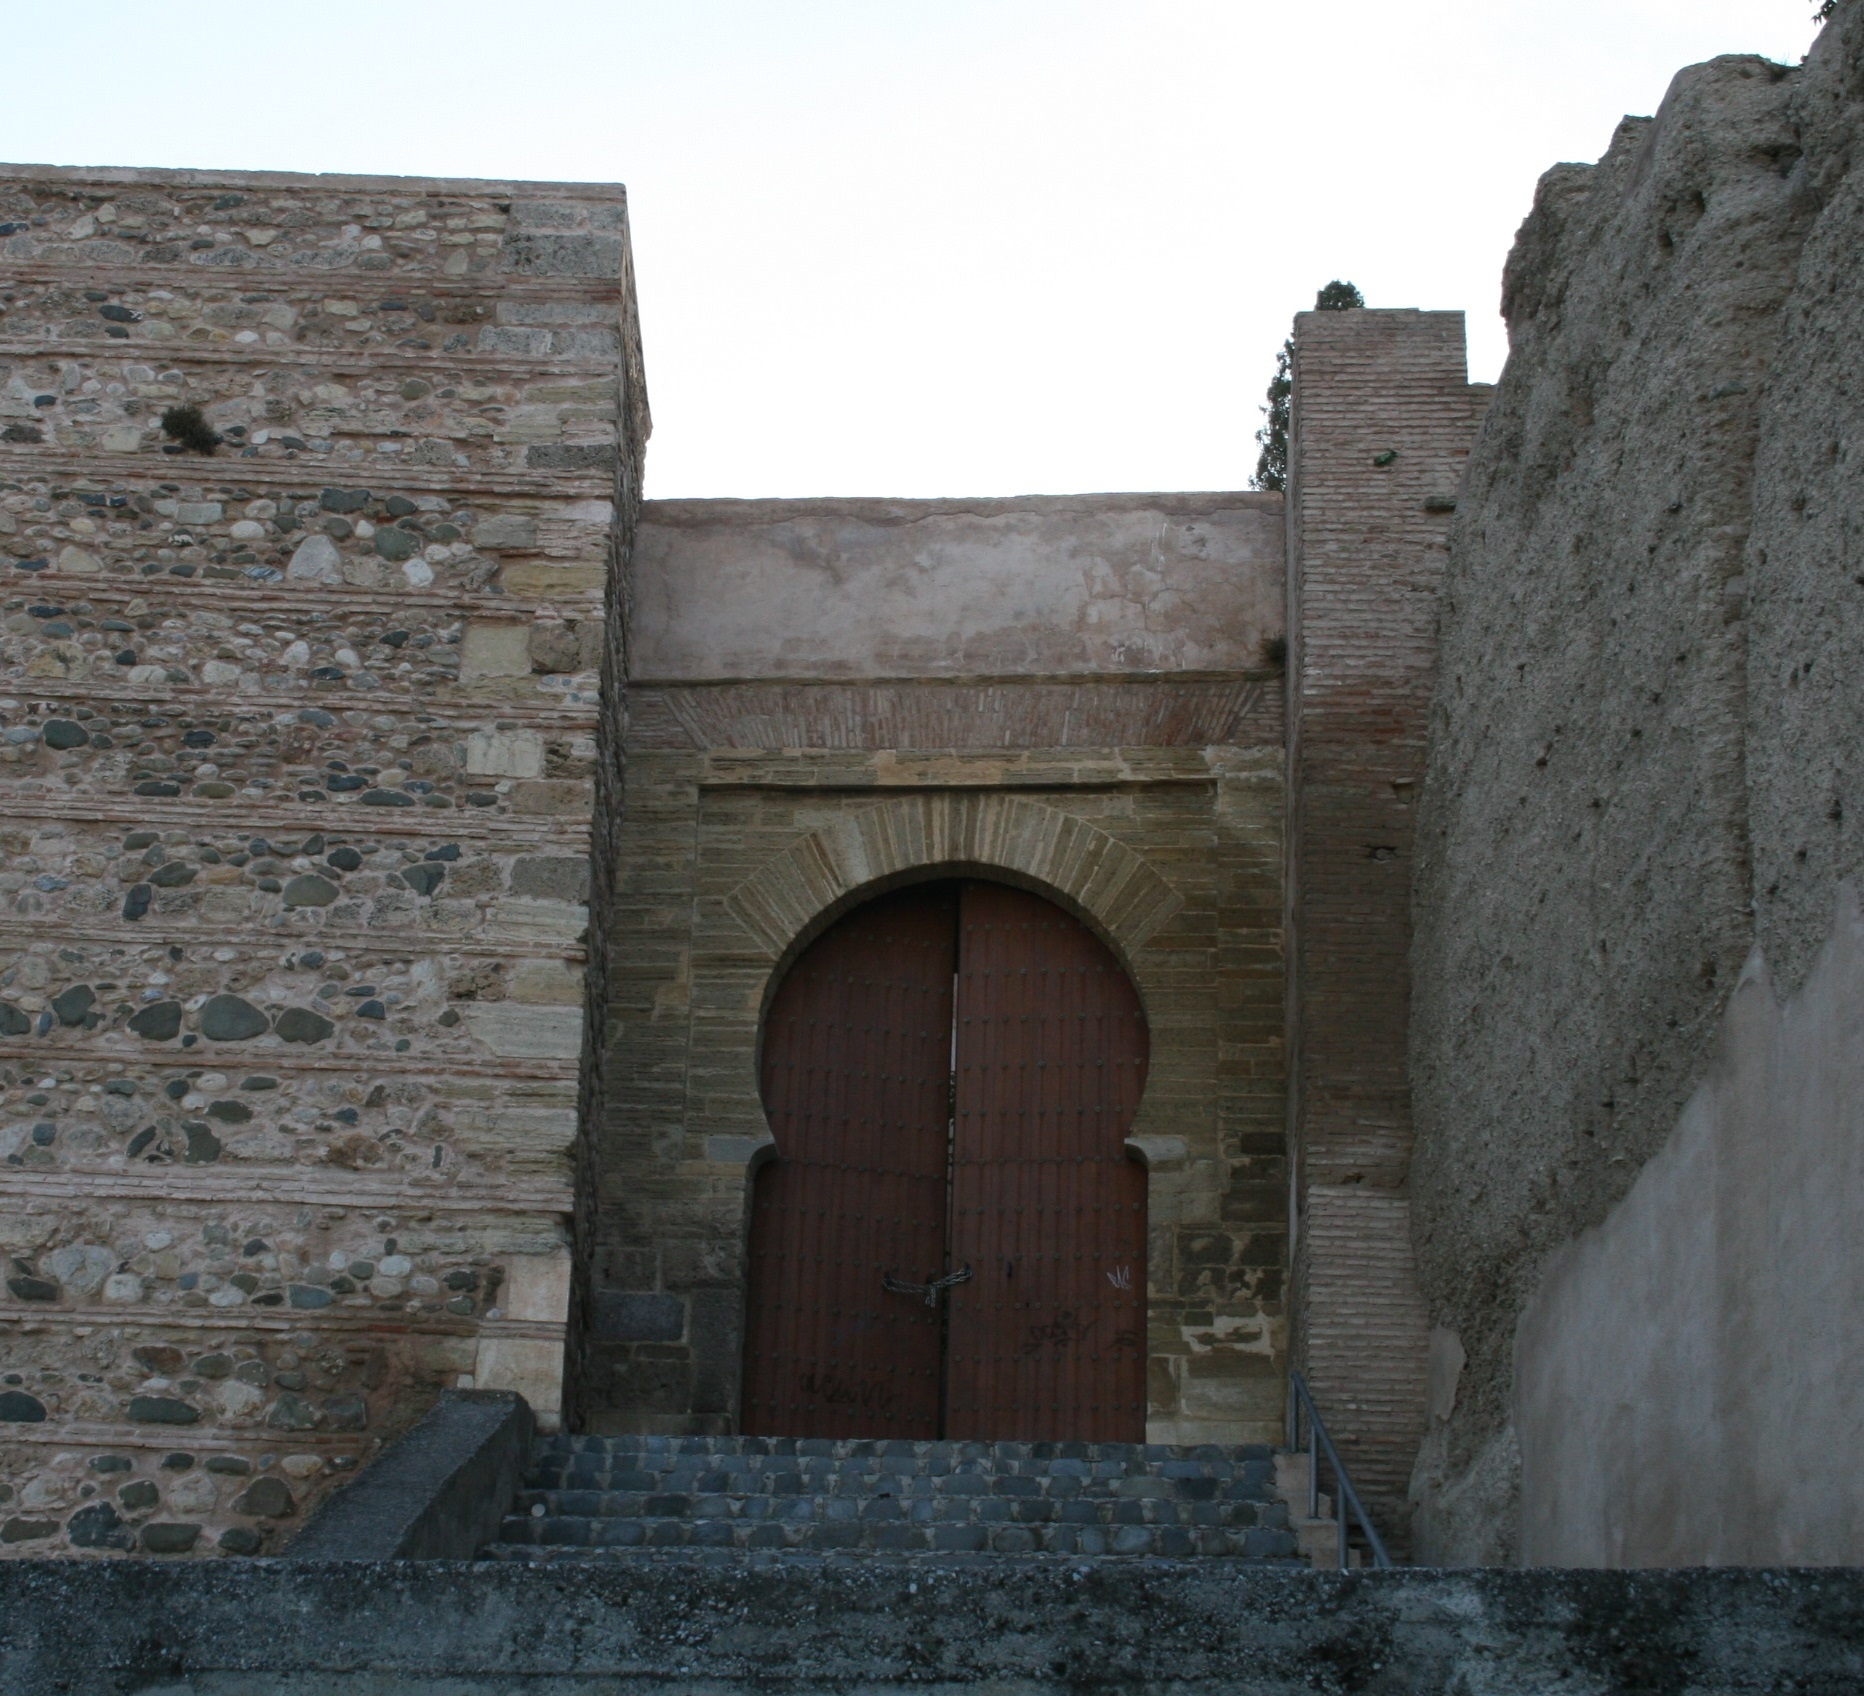arco-herradura: (727, 833, 1172, 1199)
